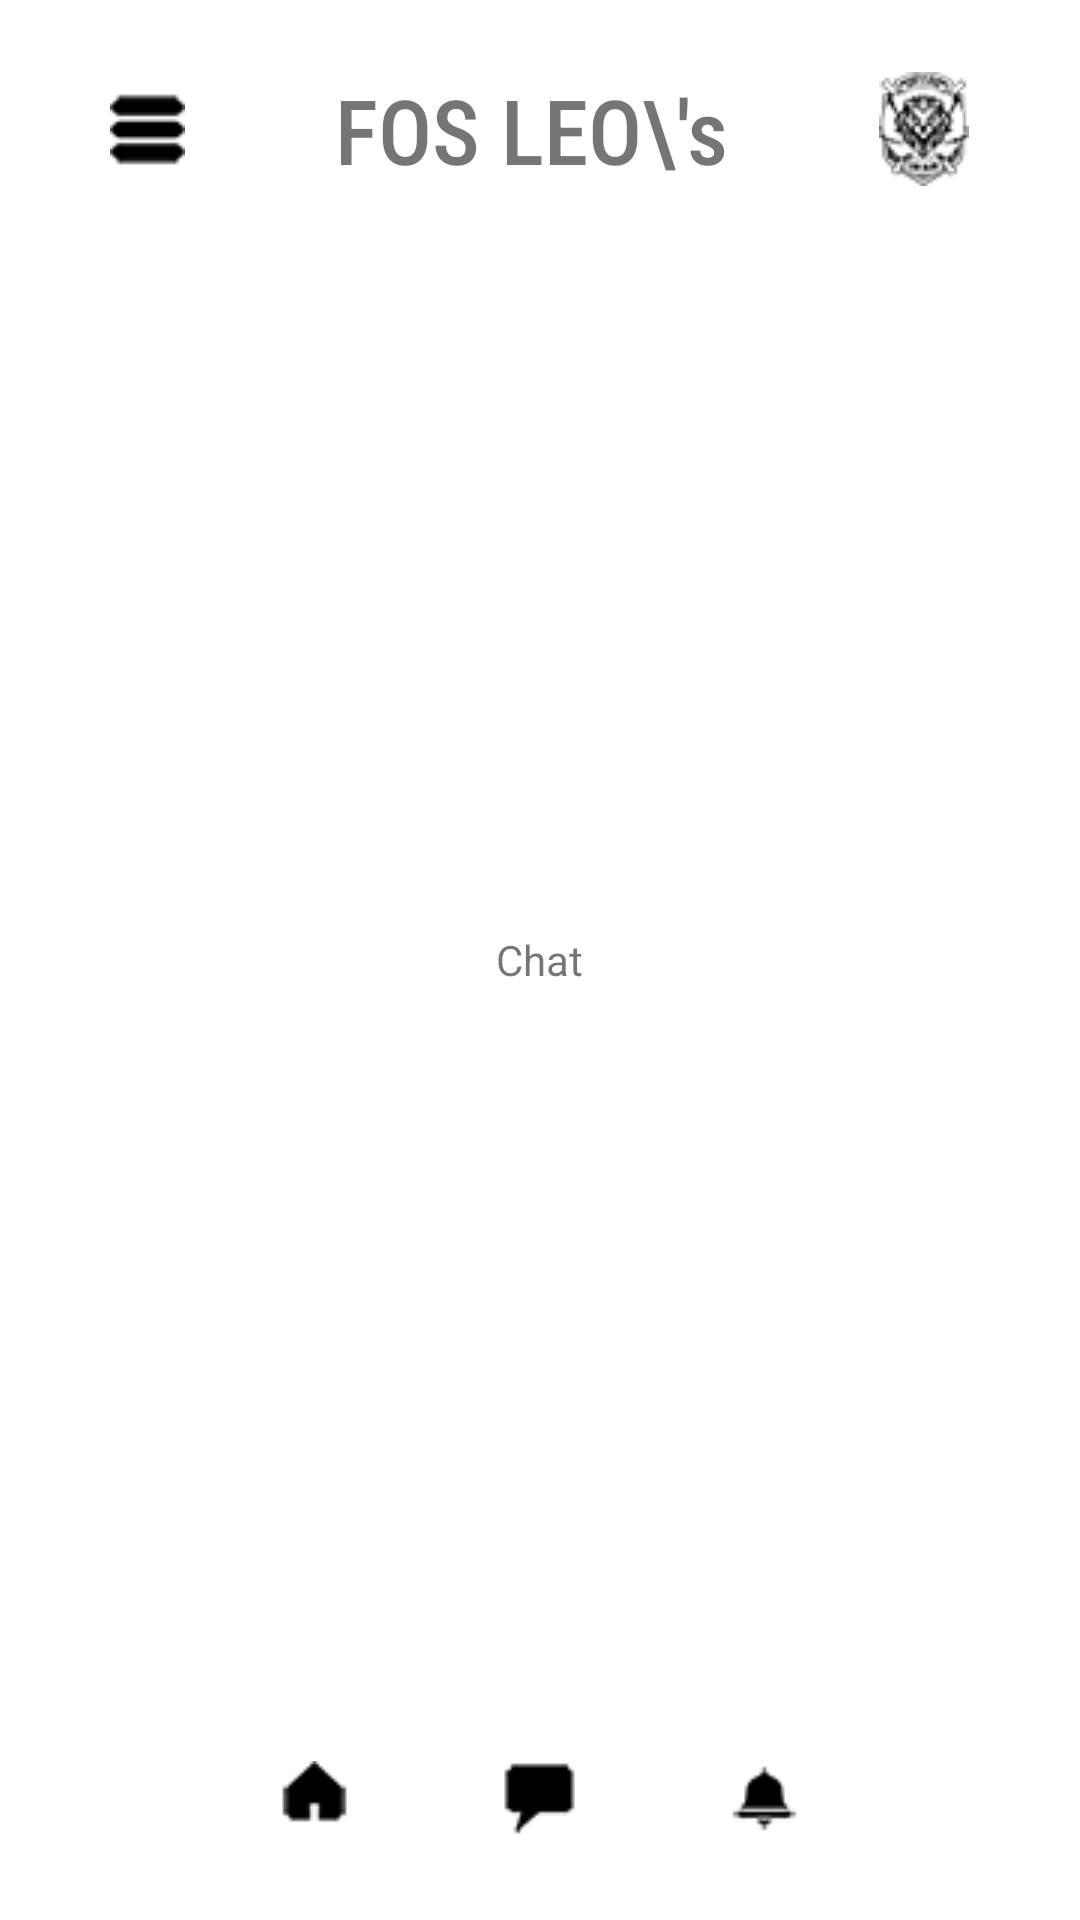

Where to tap for icons on this 1080px×1920px app screen, as (x,y):
chat: (539,1798)
home: (314,1791)
menu: (147,129)
notification: (764,1798)
